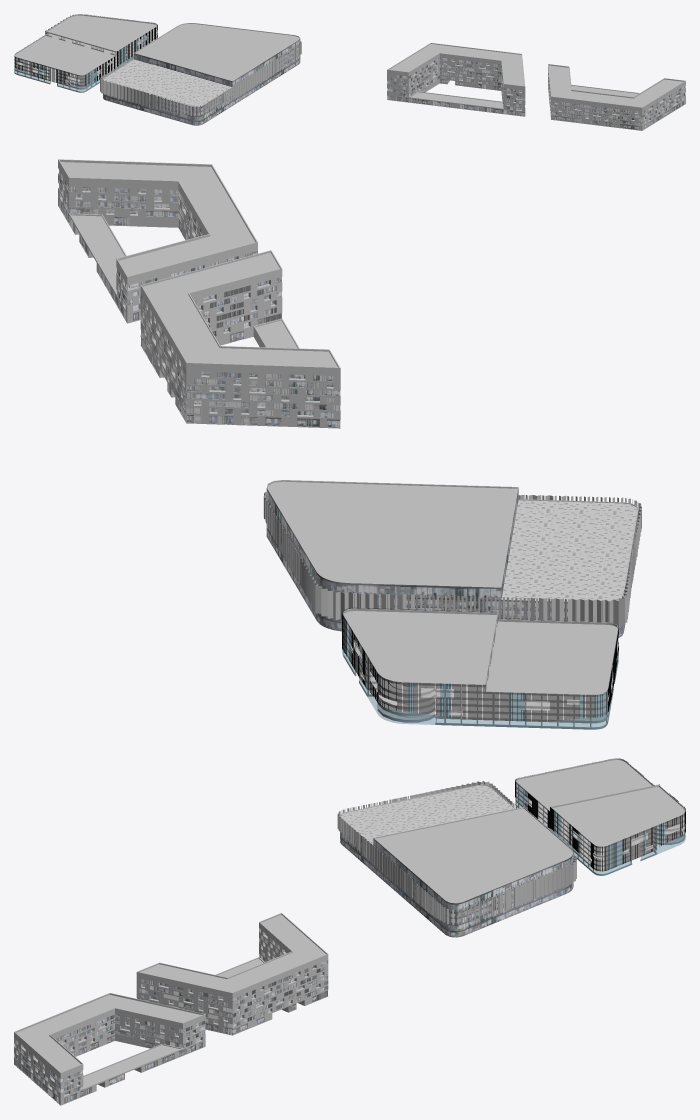
The model's file is MODEL_HUB.FBX.
3 renders of one model, top to bottom at view 1: azimuth 30°, elevation 25°; view 2: azimuth 150°, elevation 25°; view 3: azimuth 270°, elevation 25°, orthographic. The views are drawn at different scales.
Parts seen in each view (by area): view 1: SM_ApartmentBuilding, SM_ParkingAsphalt, SM_MallRoof, SM_ApartmentRoof, SM_MallGlass, SM_MallFloor, SM_ParkingWallpaint, SM_MallLamelDet, SM_OrnamentGlass, SM_ParkingLemelDet, SM_ApartmentLamelDet01, SM_ParkingGlass (+1 smaller); view 2: SM_ApartmentBuilding, SM_ParkingAsphalt, SM_MallRoof, SM_ApartmentRoof, SM_MallFloor, SM_ParkingWallpaint, SM_ParkingLemelDet, SM_MallGlass, SM_MallLamelDet, SM_OrnamentGlass, SM_ApartmentLamelDet01, SM_ParkingGlass (+1 smaller); view 3: SM_ApartmentBuilding, SM_MallRoof, SM_ParkingAsphalt, SM_ApartmentRoof, SM_MallFloor, SM_MallGlass, SM_ParkingWallpaint, SM_OrnamentGlass, SM_MallLamelDet, SM_ParkingLemelDet, SM_ApartmentLamelDet01, SM_ParkingGlass (+1 smaller).
Boxes of the visible parts, x1,y1,x2,y2 form: SM_ApartmentBuilding: (387, 43, 685, 130); SM_ParkingAsphalt: (15, 15, 157, 89); SM_MallRoof: (103, 23, 299, 107); SM_ApartmentRoof: (390, 44, 683, 108); SM_MallGlass: (103, 38, 300, 125); SM_MallFloor: (103, 59, 230, 106); SM_ParkingWallpaint: (14, 14, 157, 92); SM_MallLamelDet: (113, 41, 301, 116); SM_OrnamentGlass: (100, 55, 283, 110); SM_ParkingLemelDet: (15, 14, 157, 86); SM_ApartmentLamelDet01: (387, 57, 525, 115); SM_ParkingGlass: (14, 34, 144, 92); SM_ApartmentBuilding: (58, 159, 340, 428); SM_ParkingAsphalt: (344, 611, 617, 723); SM_MallRoof: (267, 480, 638, 601); SM_ApartmentRoof: (61, 162, 337, 367); SM_MallFloor: (501, 500, 637, 601); SM_ParkingWallpaint: (343, 608, 618, 729); SM_ParkingLemelDet: (342, 608, 618, 721); SM_MallGlass: (266, 488, 638, 637); SM_MallLamelDet: (263, 491, 641, 624); SM_OrnamentGlass: (278, 494, 637, 628); SM_ApartmentLamelDet01: (141, 277, 340, 427); SM_ParkingGlass: (342, 609, 618, 729); SM_ApartmentBuilding: (14, 913, 328, 1105); SM_MallRoof: (340, 784, 573, 903); SM_ParkingAsphalt: (516, 760, 684, 871); SM_ApartmentRoof: (16, 914, 326, 1088); SM_MallFloor: (340, 785, 514, 844); SM_MallGlass: (340, 825, 573, 937); SM_ParkingWallpaint: (515, 758, 685, 875); SM_OrnamentGlass: (356, 781, 576, 915); SM_MallLamelDet: (337, 784, 574, 925); SM_ParkingLemelDet: (515, 761, 685, 871); SM_ApartmentLamelDet01: (139, 928, 328, 1034); SM_ParkingGlass: (515, 784, 685, 875).
Bounding box in the file's own units: 408 × 25.22 × 359.
